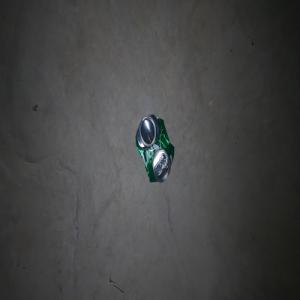SodaCan: (135, 113, 174, 183)
